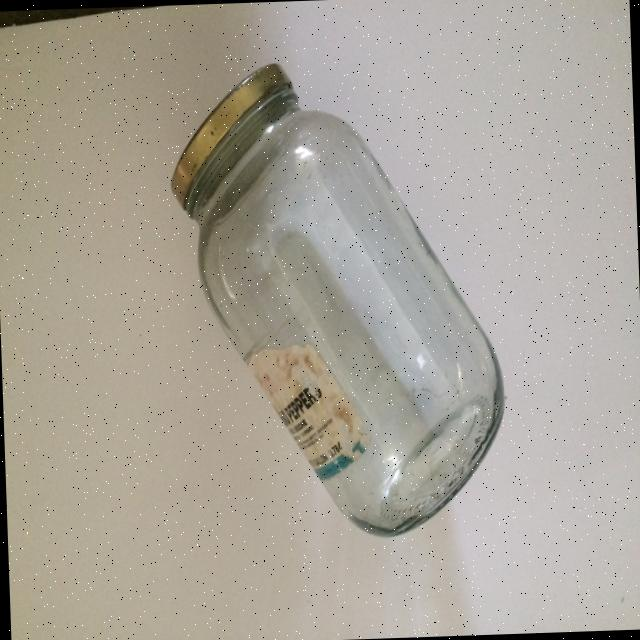glass: (166, 53, 510, 544)
